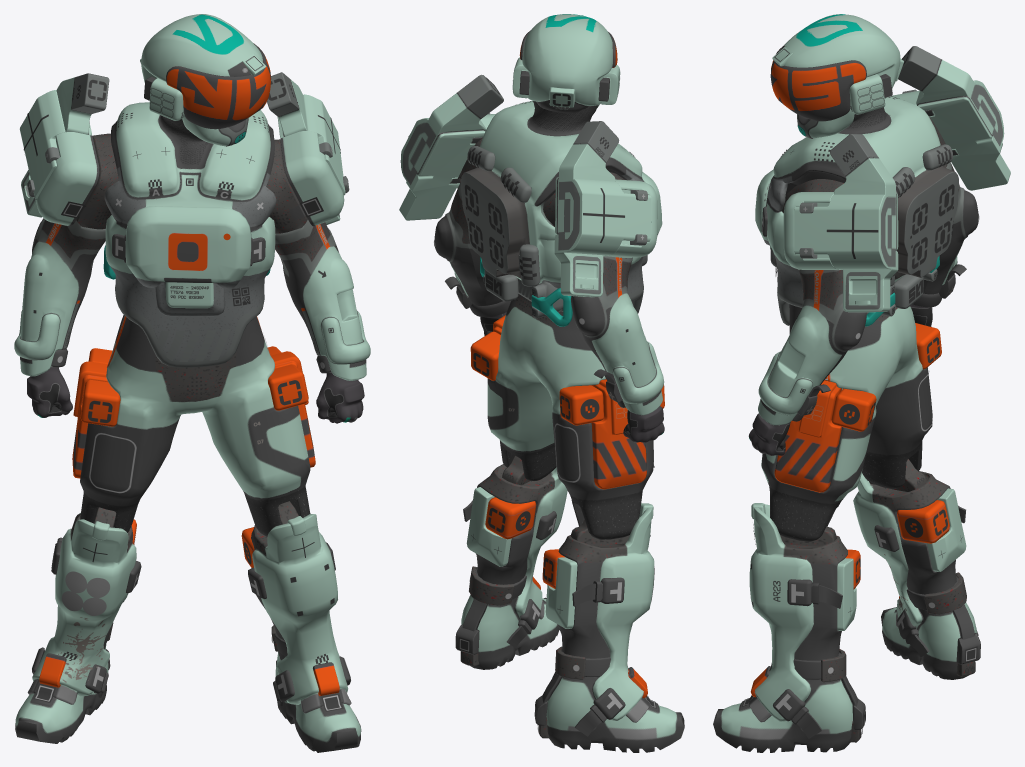
File: Destroyer.glb
The picture shows the model from 3 angles, left to right: view 1: azimuth 30°, elevation 25°; view 2: azimuth 150°, elevation 25°; view 3: azimuth 270°, elevation 25°; orthographic projection. The views are drawn at different scales.
Parts seen in each view (by area): view 1: chest_low2, legs_main_low, calf_main_low, arm_low, shoulder_back_low, shoulder_front_low, shell_low, visor_low, shoulder_low, hands_low, thigh_thruster_boxes_low, thigh_thruster_door_low (+13 smaller); view 2: calf_main_low, shoulder_back_low, legs_main_low, chest_low2, arm_low, shell_low, thigh_thruster_door_low, calf_thruster_door_low, thigh_thruster_boxes_low, calf_thruster_box_low, ankle_strap_02_low, shoulder_front_low (+19 smaller); view 3: calf_main_low, shoulder_back_low, legs_main_low, chest_low2, arm_low, shell_low, thigh_thruster_door_low, visor_low, calf_thruster_door_low, thigh_thruster_boxes_low, shoulder_front_low, calf_thruster_box_low (+17 smaller).
Part boxes in pixels (x1=…): chest_low2: x1=104, y1=102, x2=276, y2=367; legs_main_low: x1=80, y1=315, x2=310, y2=536; calf_main_low: x1=15, y1=513, x2=361, y2=752; arm_low: x1=14, y1=218, x2=370, y2=380; shoulder_back_low: x1=19, y1=72, x2=345, y2=224; shoulder_front_low: x1=35, y1=131, x2=344, y2=226; shell_low: x1=140, y1=14, x2=262, y2=82; visor_low: x1=166, y1=43, x2=271, y2=129; shoulder_low: x1=76, y1=133, x2=307, y2=233; hands_low: x1=27, y1=366, x2=364, y2=423; thigh_thruster_boxes_low: x1=80, y1=346, x2=308, y2=426; thigh_thruster_door_low: x1=72, y1=351, x2=315, y2=478; calf_main_low: x1=461, y1=464, x2=684, y2=752; shoulder_back_low: x1=399, y1=74, x2=651, y2=297; legs_main_low: x1=487, y1=294, x2=653, y2=539; chest_low2: x1=461, y1=101, x2=662, y2=313; arm_low: x1=434, y1=183, x2=664, y2=415; shell_low: x1=522, y1=14, x2=612, y2=113; thigh_thruster_door_low: x1=493, y1=315, x2=646, y2=489; calf_thruster_door_low: x1=466, y1=487, x2=577, y2=628; thigh_thruster_boxes_low: x1=470, y1=331, x2=664, y2=425; calf_thruster_box_low: x1=485, y1=497, x2=564, y2=588; ankle_strap_02_low: x1=469, y1=566, x2=585, y2=679; shoulder_front_low: x1=449, y1=114, x2=657, y2=258; calf_main_low: x1=713, y1=471, x2=976, y2=752; shoulder_back_low: x1=794, y1=46, x2=1010, y2=312; legs_main_low: x1=761, y1=304, x2=932, y2=541; chest_low2: x1=755, y1=96, x2=958, y2=325; arm_low: x1=758, y1=162, x2=978, y2=425; shell_low: x1=780, y1=14, x2=903, y2=98; thigh_thruster_door_low: x1=774, y1=380, x2=841, y2=492; visor_low: x1=770, y1=46, x2=866, y2=121; calf_thruster_door_low: x1=837, y1=488, x2=966, y2=630; thigh_thruster_boxes_low: x1=831, y1=323, x2=941, y2=431; shoulder_front_low: x1=783, y1=90, x2=958, y2=270; calf_thruster_box_low: x1=845, y1=500, x2=949, y2=589.
Bounding box in the file's own units: 0.8451 × 1.84 × 0.7301.
Materials: 8 (7 with a texture image).
